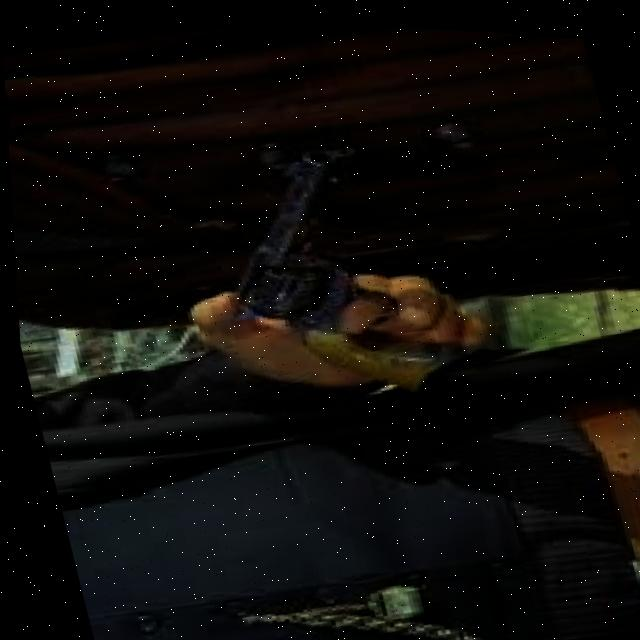pistol: (191, 120, 470, 418)
